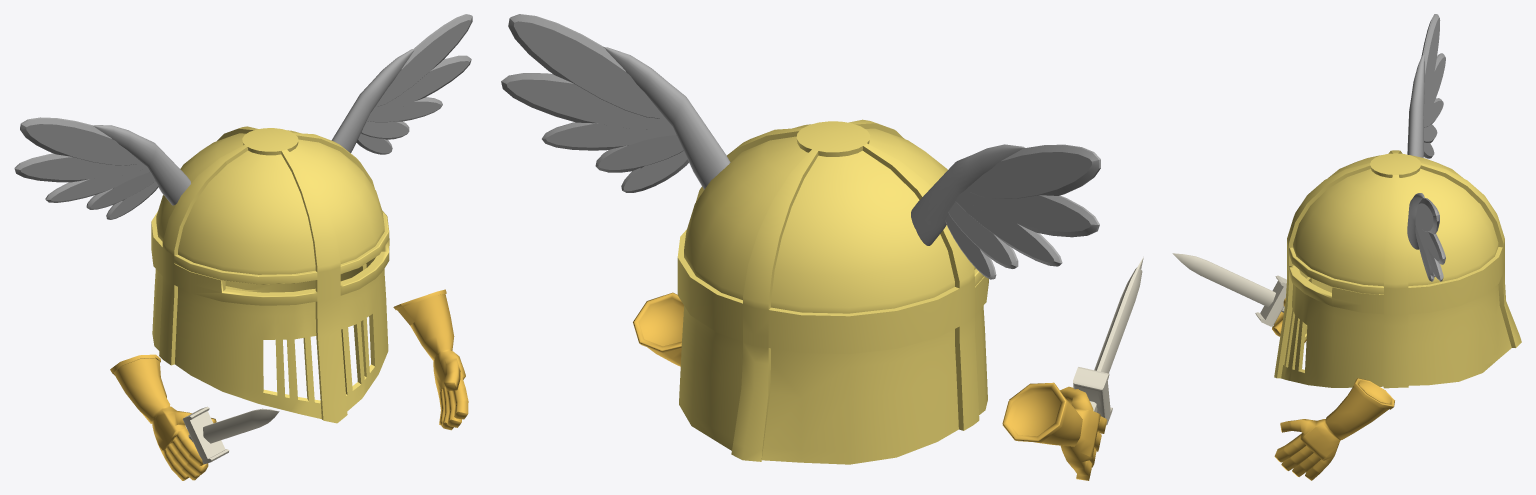
The model's file is ms_pacmanspeed.fbx.
3 views of the same model, side by side, from view 1: azimuth 30°, elevation 25°; view 2: azimuth 150°, elevation 25°; view 3: azimuth 270°, elevation 25° (orthographic). The views are drawn at different scales.
Parts seen in each view (by area): view 1: polySurface2; view 2: polySurface2; view 3: polySurface2.
Boxes of the visible parts, box(x1,y1,x2,y2) form: polySurface2: box(14, 14, 472, 480); polySurface2: box(501, 14, 1143, 480); polySurface2: box(1172, 14, 1521, 480).
Bounding box in the file's own units: 87.55 × 62.71 × 63.94.
